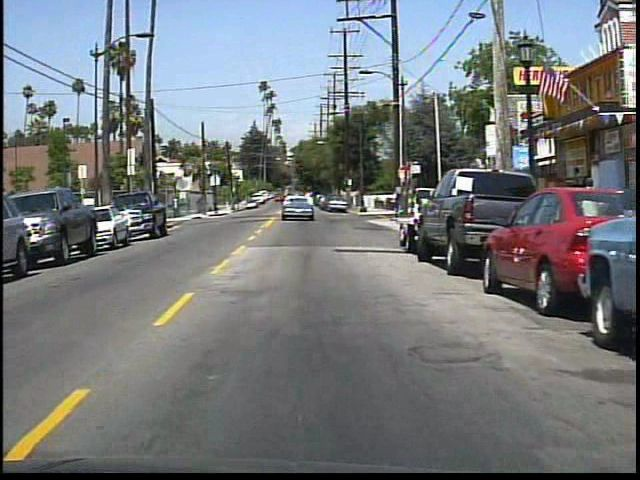person: (577, 173, 605, 243)
